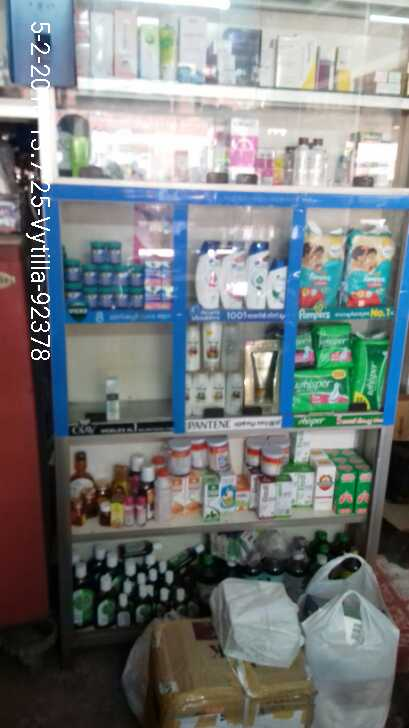vicks: (66, 240, 175, 314)
